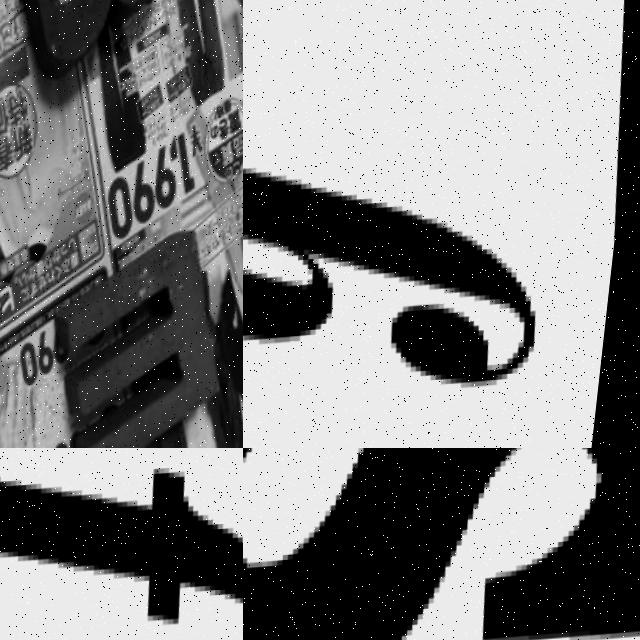6: (243, 97, 577, 422)
F: (0, 448, 243, 640)
M: (53, 235, 243, 448)
S: (243, 448, 640, 640)
